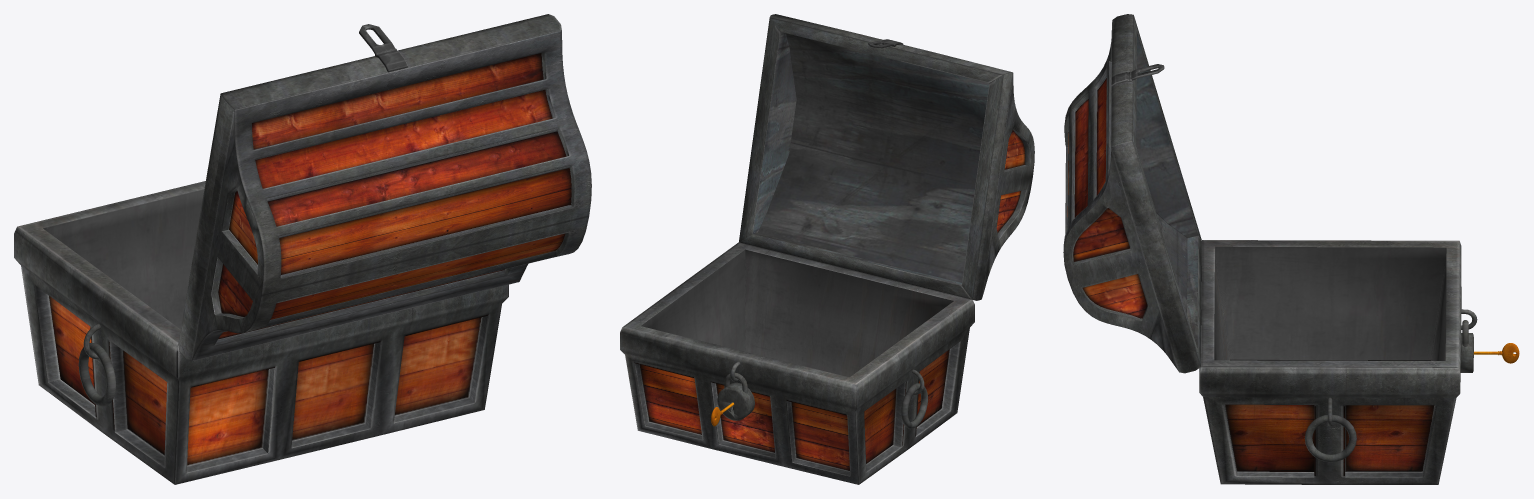
Rendered from Chest gold va.FBX.
The picture shows the model from 3 angles, left to right: view 1: azimuth 30°, elevation 25°; view 2: azimuth 150°, elevation 25°; view 3: azimuth 270°, elevation 25°; orthographic projection. The views are drawn at different scales.
Visible parts, largest first — view 1: chest gold va; view 2: chest gold va; view 3: chest gold va.
Part boxes in pixels (x1,y1,x2,y2): chest gold va: (14, 14, 591, 484); chest gold va: (620, 14, 1034, 484); chest gold va: (1063, 14, 1519, 484).
Bounding box in the file's own units: 1.87 × 2.62 × 2.27.
